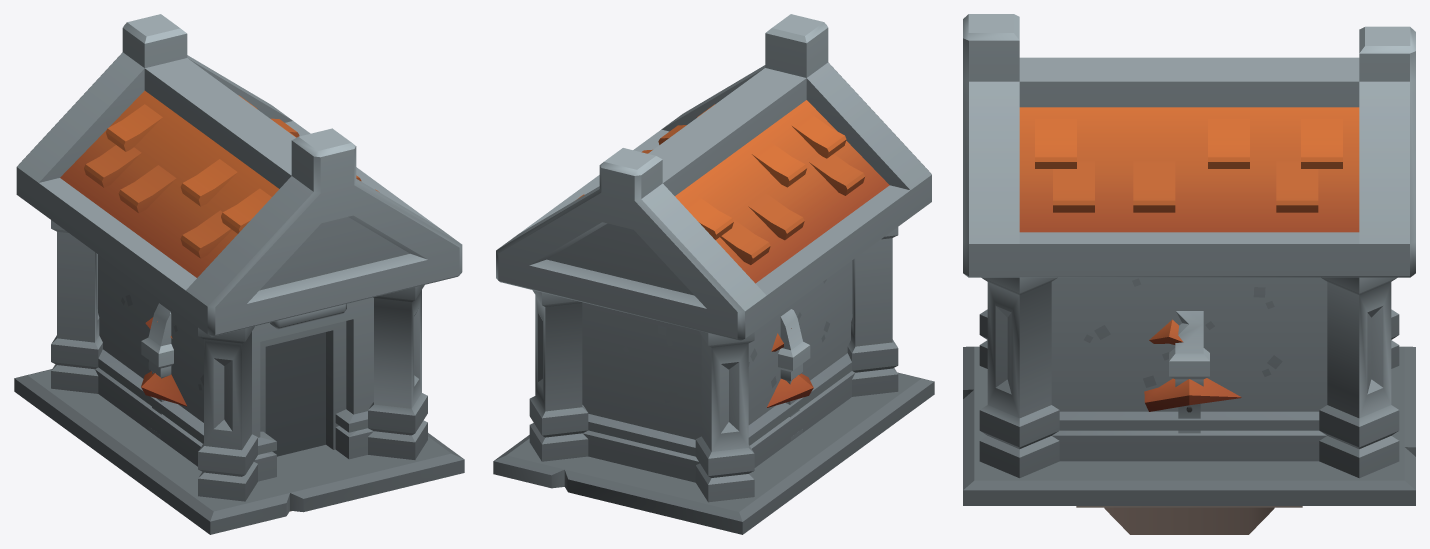
Rendered from halloween.glb.
3 views of the same model, side by side, from view 1: azimuth 30°, elevation 25°; view 2: azimuth 150°, elevation 25°; view 3: azimuth 270°, elevation 25° (orthographic). The views are drawn at different scales.
Parts seen in each view (by area): view 1: crypt__crypt, arch__arch, tree_pine_orange_large__tree_pine_orange_large; view 2: crypt__crypt, arch__arch, tree_pine_orange_large__tree_pine_orange_large; view 3: crypt__crypt, floor_dirt_grave__floor_dirt_grave, arch__arch, tree_pine_orange_large__tree_pine_orange_large.
Boxes of the visible parts, bbox=[...] form: crypt__crypt: bbox=[14, 14, 464, 534]; arch__arch: bbox=[141, 303, 173, 439]; tree_pine_orange_large__tree_pine_orange_large: bbox=[141, 317, 187, 406]; crypt__crypt: bbox=[493, 14, 934, 534]; arch__arch: bbox=[778, 309, 810, 441]; tree_pine_orange_large__tree_pine_orange_large: bbox=[767, 328, 813, 407]; crypt__crypt: bbox=[963, 14, 1415, 505]; floor_dirt_grave__floor_dirt_grave: bbox=[1104, 507, 1274, 534]; arch__arch: bbox=[1169, 311, 1209, 433]; tree_pine_orange_large__tree_pine_orange_large: bbox=[1144, 319, 1241, 411].
Size of the model in its own units: 6 by 9.5 by 8.
1 material, 1 textured.
